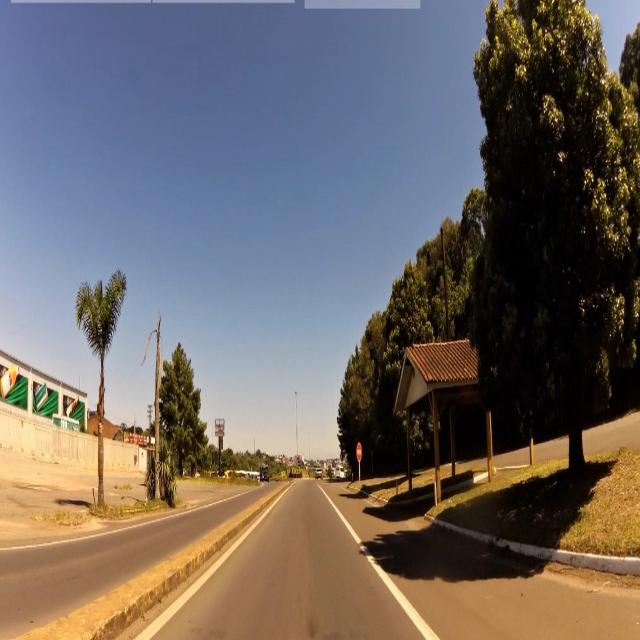R-1: (357, 442, 362, 463)
